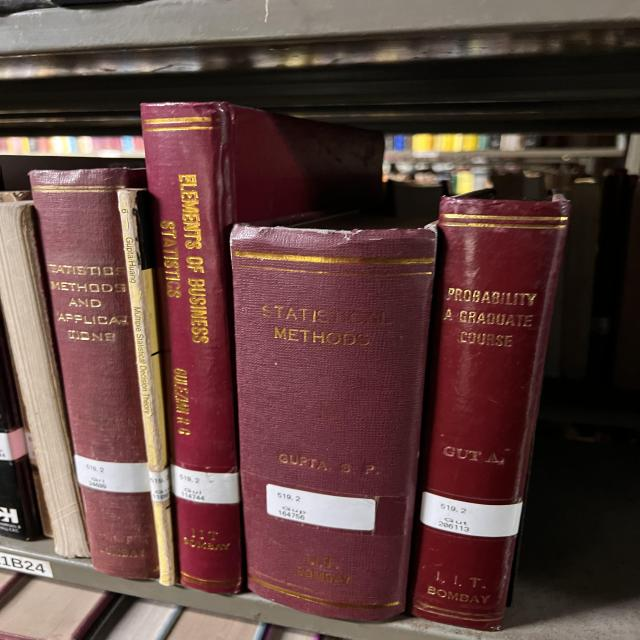Book: (140, 102, 383, 592), (230, 222, 437, 620), (410, 195, 570, 630), (30, 169, 158, 579), (0, 201, 90, 558), (118, 189, 175, 585)
Label: (267, 484, 377, 531), (420, 491, 522, 538), (75, 455, 150, 492), (172, 465, 240, 504)
